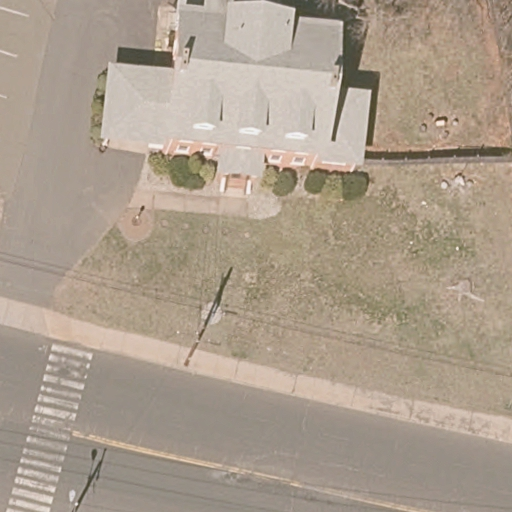DT: (184, 321, 207, 368)
